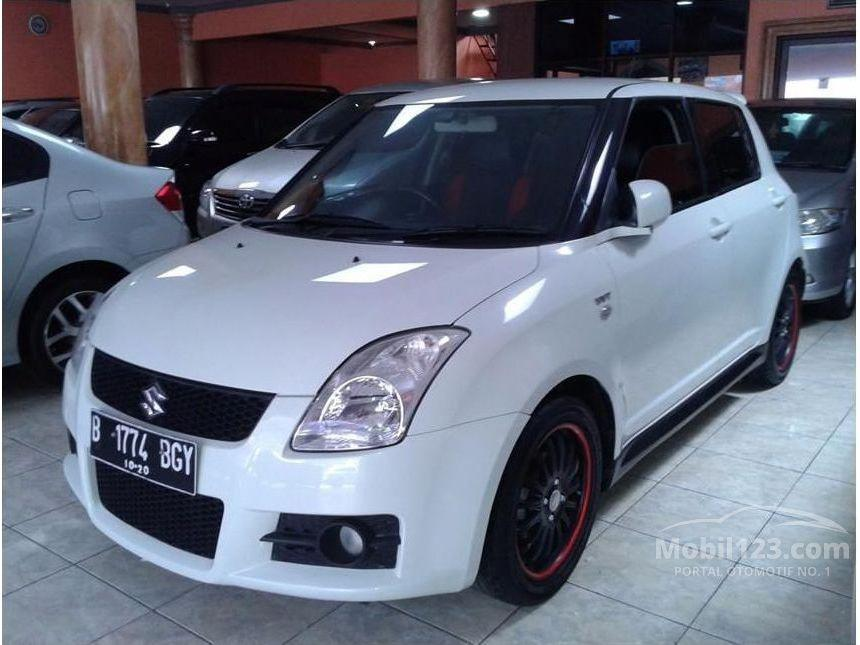plate: (89, 408, 196, 495)
